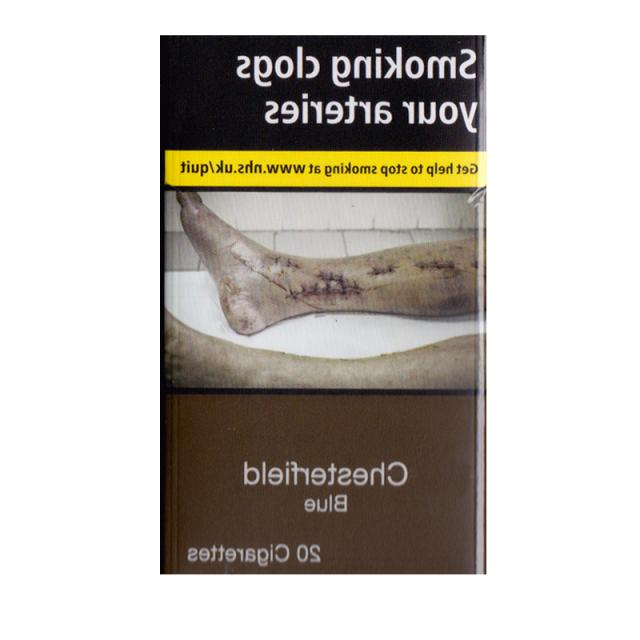chesterfield: (156, 36, 478, 576)
